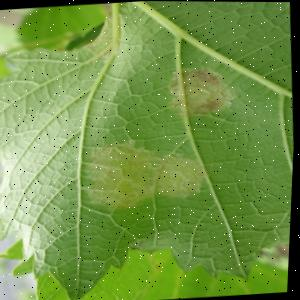Folha: (0, 0, 300, 300)
Fungo: (76, 133, 210, 213), (164, 63, 239, 119), (255, 241, 292, 274)
